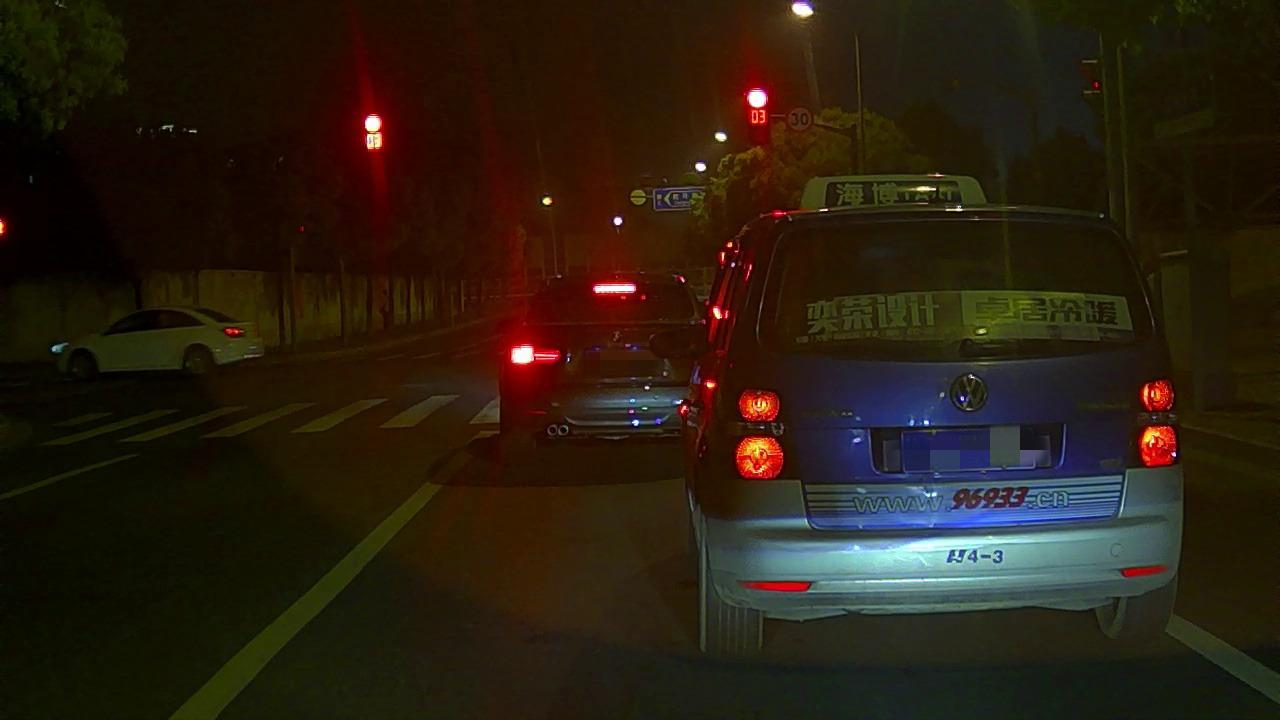traffic_light: (744, 85, 770, 143), (362, 109, 384, 162)
